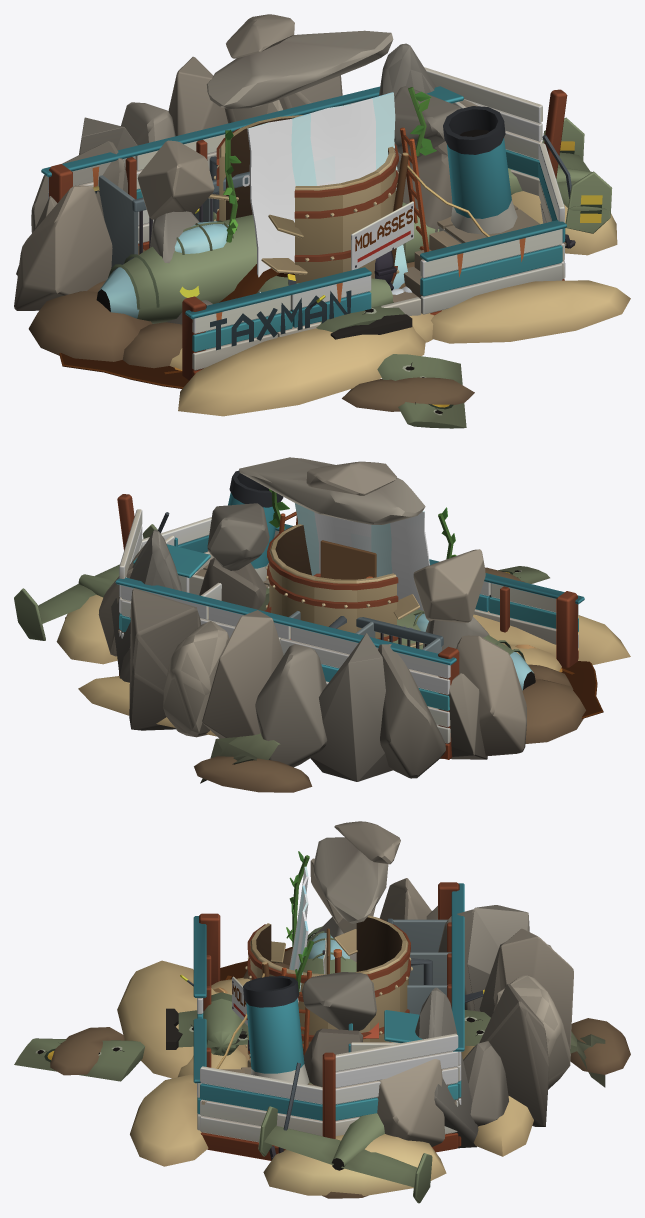
Rendered from landmarks.glb.
The picture shows the model from 3 angles, top to bottom: view 1: azimuth 30°, elevation 25°; view 2: azimuth 150°, elevation 25°; view 3: azimuth 270°, elevation 25°; orthographic projection. The views are drawn at different scales.
Visible parts, largest first — view 1: ferry__matte, falls__matte, bomber__matte, vat__matte, falls__water, vat__puddle; view 2: falls__matte, ferry__matte, bomber__matte, vat__matte, falls__water, audit__matte, vat__puddle; view 3: ferry__matte, falls__matte, bomber__matte, vat__matte, falls__water.
Part boxes in pixels (x1,y1,x2,y2): ferry__matte: (41,67,630,416); falls__matte: (14,14,478,324); bomber__matte: (28,117,612,428); vat__matte: (208,115,429,302); falls__water: (247,92,407,292); vat__puddle: (59,353,188,388); falls__matte: (98,457,526,781); ferry__matte: (56,470,630,759); bomber__matte: (14,524,585,792); vat__matte: (265,511,536,648); falls__water: (295,503,429,610); audit__matte: (320,540,376,579); vat__puddle: (559,661,603,718); ferry__matte: (117,882,533,1195); falls__matte: (286,821,573,1148); bomber__matte: (14,926,630,1203); vat__matte: (213,915,432,1067); falls__water: (289,866,308,1002).
Bounding box in the file's own units: 14.26 × 6.4 × 14.35.
